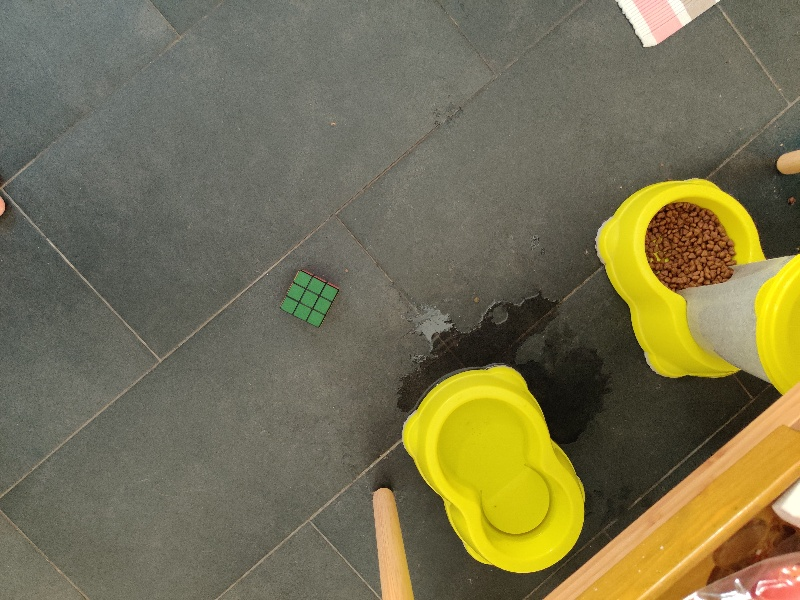rubik: (279, 268, 337, 328)
